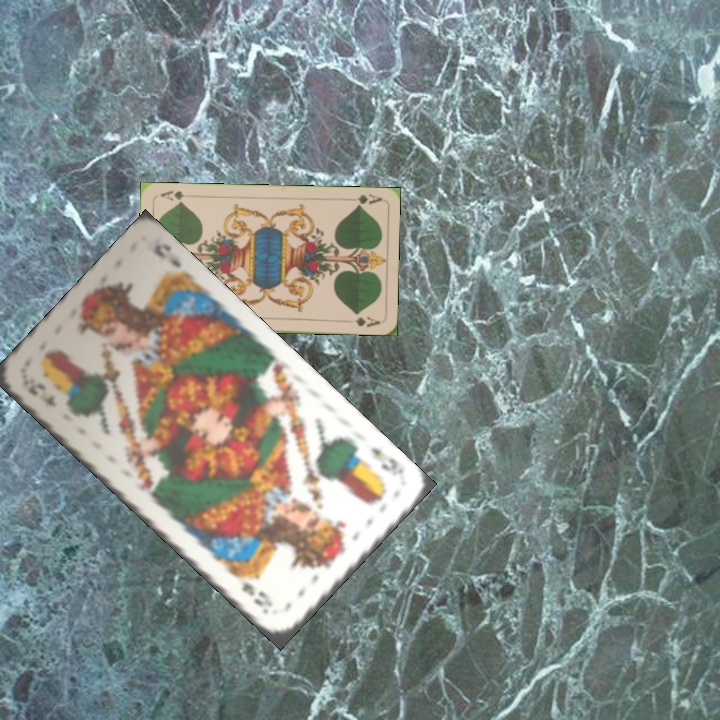EK: (366, 443, 407, 480), (26, 375, 59, 410)
GA: (343, 190, 384, 209)
